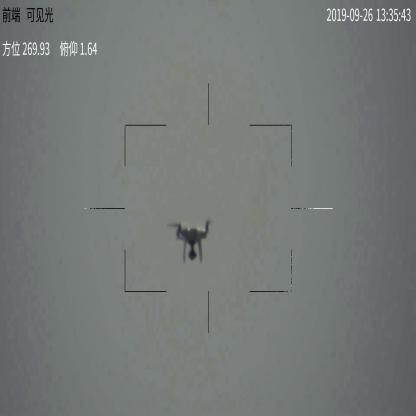uav: (170, 220, 216, 261)
